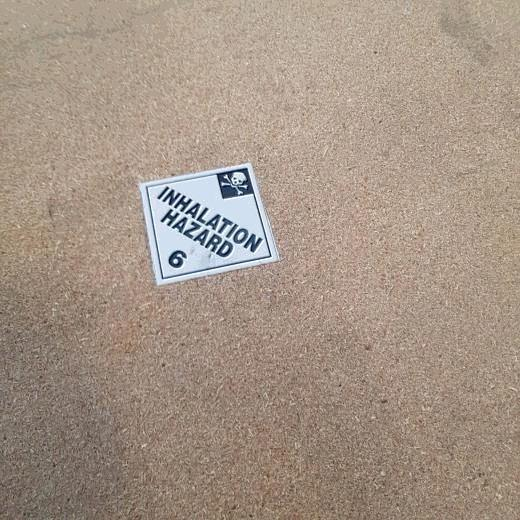poison: (138, 159, 283, 287)
